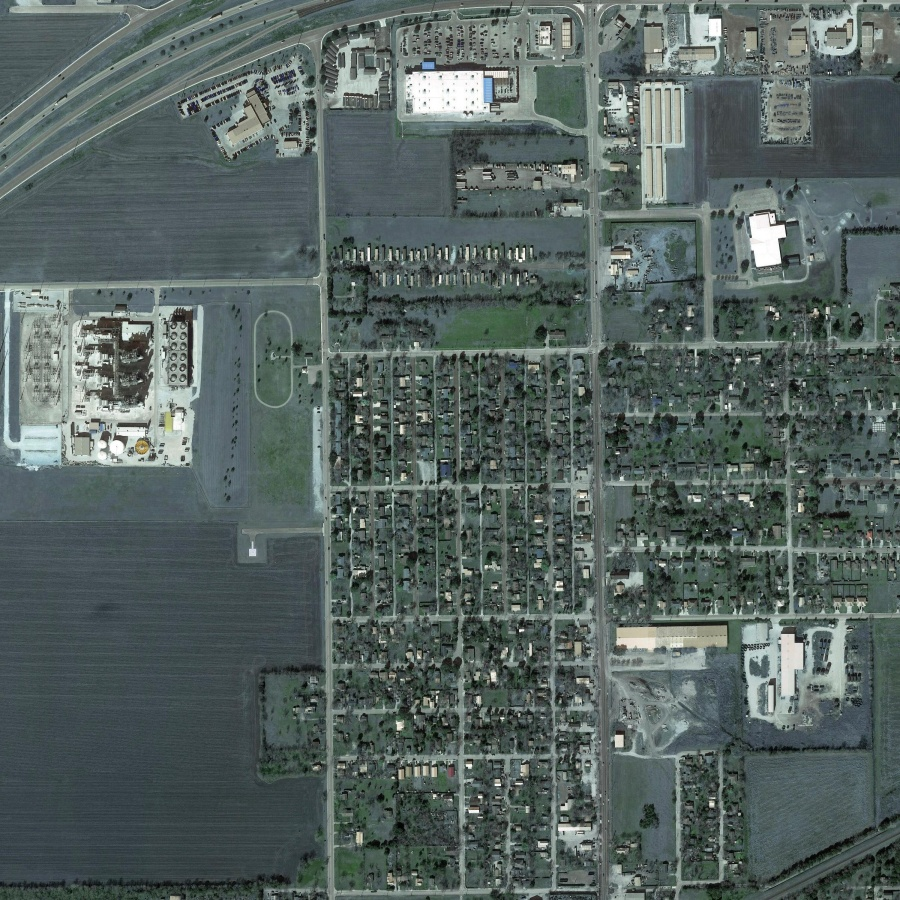PowerPlant: (6, 284, 200, 473)
